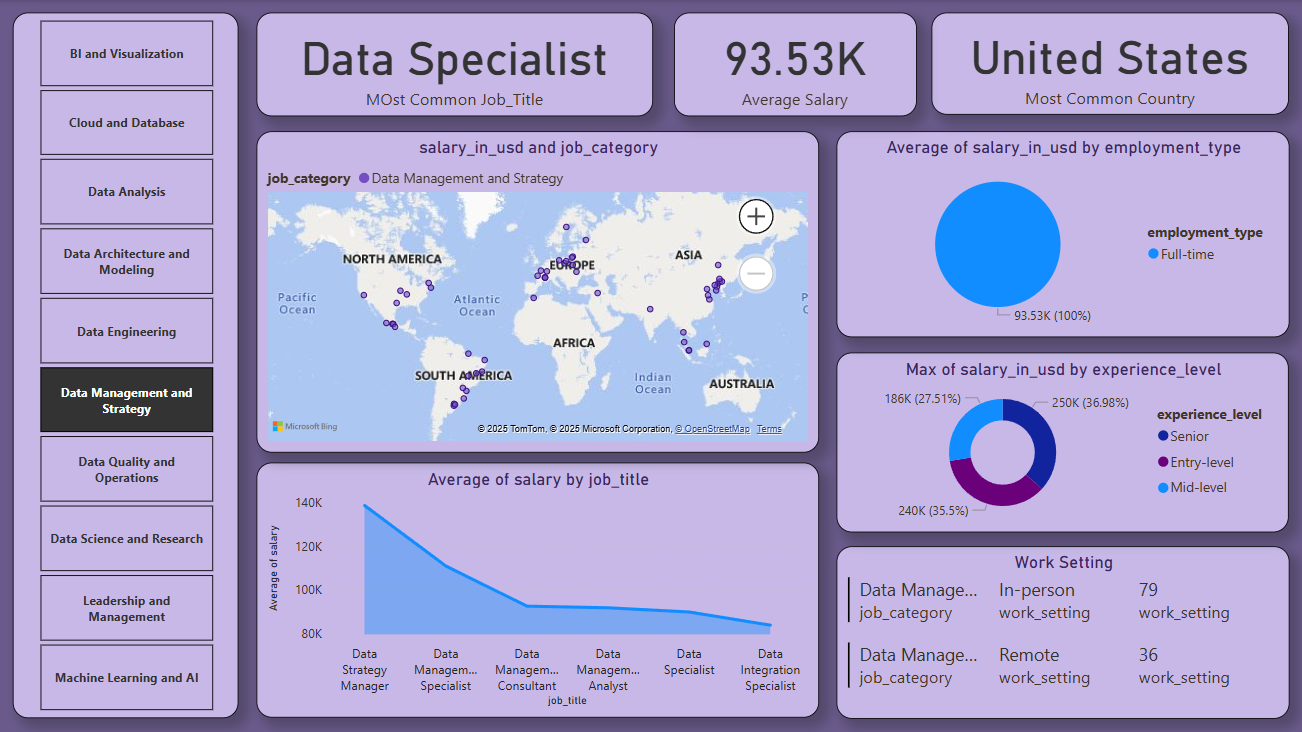

What the dashboard file says about the page in this screenshot:
{"tool":"powerbi","page":{"name":"Page 1","canvas":[1280,720],"ordinal":0},"visuals":[{"type":"slicer","fields":{"Values":["jobs_in_data_2024.job_category"]},"box":[13.7,12.3,220.9,690.2],"z":0},{"type":"areaChart","fields":{"Category":["jobs_in_data_2024.job_title"],"Y":["Avg(jobs_in_data_2024.salary)"]},"box":[252.5,452.8,550.3,249.7],"z":1000},{"type":"multiRowCard","title":"Work Setting","fields":{"Values":["jobs_in_data_2024.job_category","jobs_in_data_2024.work_setting","CountNonNull(jobs_in_data_2024.work_setting)"]},"box":[819.2,533.8,443.2,168.8],"z":2000},{"type":"donutChart","fields":{"Category":["jobs_in_data_2024.experience_level"],"Y":["Max(jobs_in_data_2024.salary_in_usd)"]},"box":[819.3,344.8,442.7,176.1],"z":3000},{"type":"pieChart","fields":{"Category":["jobs_in_data_2024.employment_type"],"Y":["Avg(jobs_in_data_2024.salary_in_usd)"]},"box":[819.2,129,443.2,201.7],"z":4000},{"type":"card","fields":{"Values":["Min(jobs_in_data_2024.employee_residence)"]},"box":[912,12,349.9,100],"z":5000},{"type":"card","fields":{"Values":["Max(jobs_in_data_2024.job_title)"]},"box":[252.5,12.3,388.3,101.5],"z":6000},{"type":"map","fields":{"Category":["jobs_in_data_2024.salary_in_usd"],"Series":["jobs_in_data_2024.job_category"]},"box":[252,129,550.3,314.2],"z":7000},{"type":"card","fields":{"Values":["jobs_in_data_2024.Measure"]},"box":[660,12.3,237.4,101.5],"z":8000}]}

Visuals, with their boxes in screenshot pixels (x1, y1, x2, y2), scaled from the page's 1280x720 canvas onto the 1302x732 screenshot:
slicer - jobs_in_data_2024.job_category: region(14, 13, 239, 714)
areaChart - jobs_in_data_2024.job_title x Avg(jobs_in_data_2024.salary): region(257, 460, 817, 714)
"Work Setting" multiRowCard: region(833, 543, 1284, 714)
donutChart - jobs_in_data_2024.experience_level x Max(jobs_in_data_2024.salary_in_usd): region(833, 351, 1284, 530)
pieChart - jobs_in_data_2024.employment_type x Avg(jobs_in_data_2024.salary_in_usd): region(833, 131, 1284, 336)
card - Min(jobs_in_data_2024.employee_residence): region(928, 12, 1284, 114)
card - Max(jobs_in_data_2024.job_title): region(257, 13, 652, 116)
map - jobs_in_data_2024.salary_in_usd x jobs_in_data_2024.job_category: region(256, 131, 816, 451)
card - jobs_in_data_2024.Measure: region(671, 13, 913, 116)
